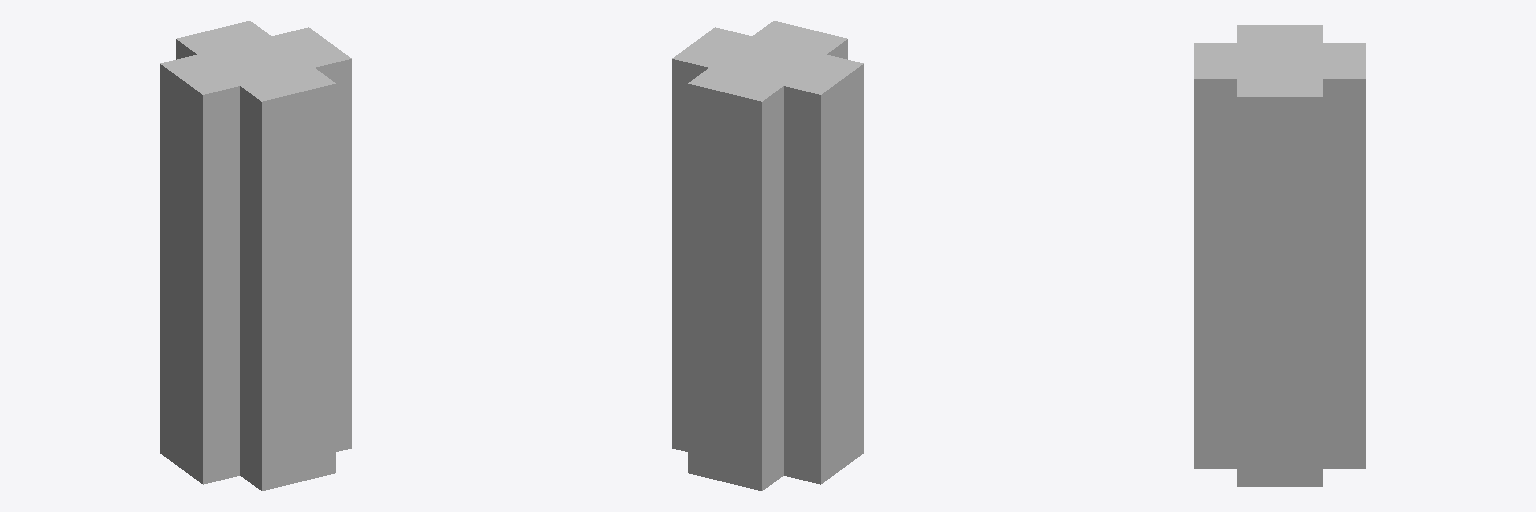
Rendered from Tronco.obj.
3 renders of one model, left to right at view 1: azimuth 30°, elevation 25°; view 2: azimuth 150°, elevation 25°; view 3: azimuth 270°, elevation 25°, orthographic.
Visible parts, largest first — view 1: object 1; view 2: object 1; view 3: object 1.
Part boxes in pixels (x1,y1,x2,y2): object 1: (160,21,351,490); object 1: (672,21,863,490); object 1: (1194,25,1365,486).
Size of the model in its own units: 0.4 by 1 by 0.4.